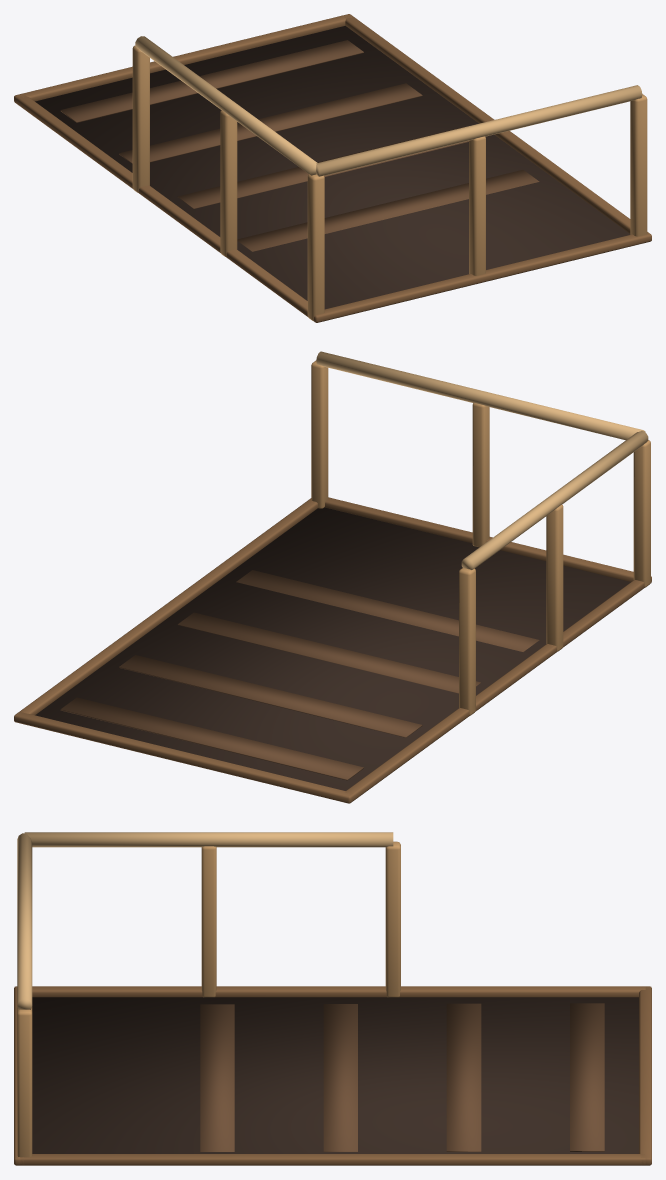
Rendered from stair-rail.glb.
3 renders of one model, top to bottom at view 1: azimuth 30°, elevation 25°; view 2: azimuth 150°, elevation 25°; view 3: azimuth 270°, elevation 25°, orthographic. The views are drawn at different scales.
Parts seen in each view (by area): view 1: rail; view 2: rail; view 3: rail.
Part boxes in pixels (bbox=[...]): rail: bbox=[14, 14, 651, 322]; rail: bbox=[14, 351, 651, 803]; rail: bbox=[14, 832, 651, 1165].
Size of the model in its own units: 1.91 by 0.835 by 2.96.
